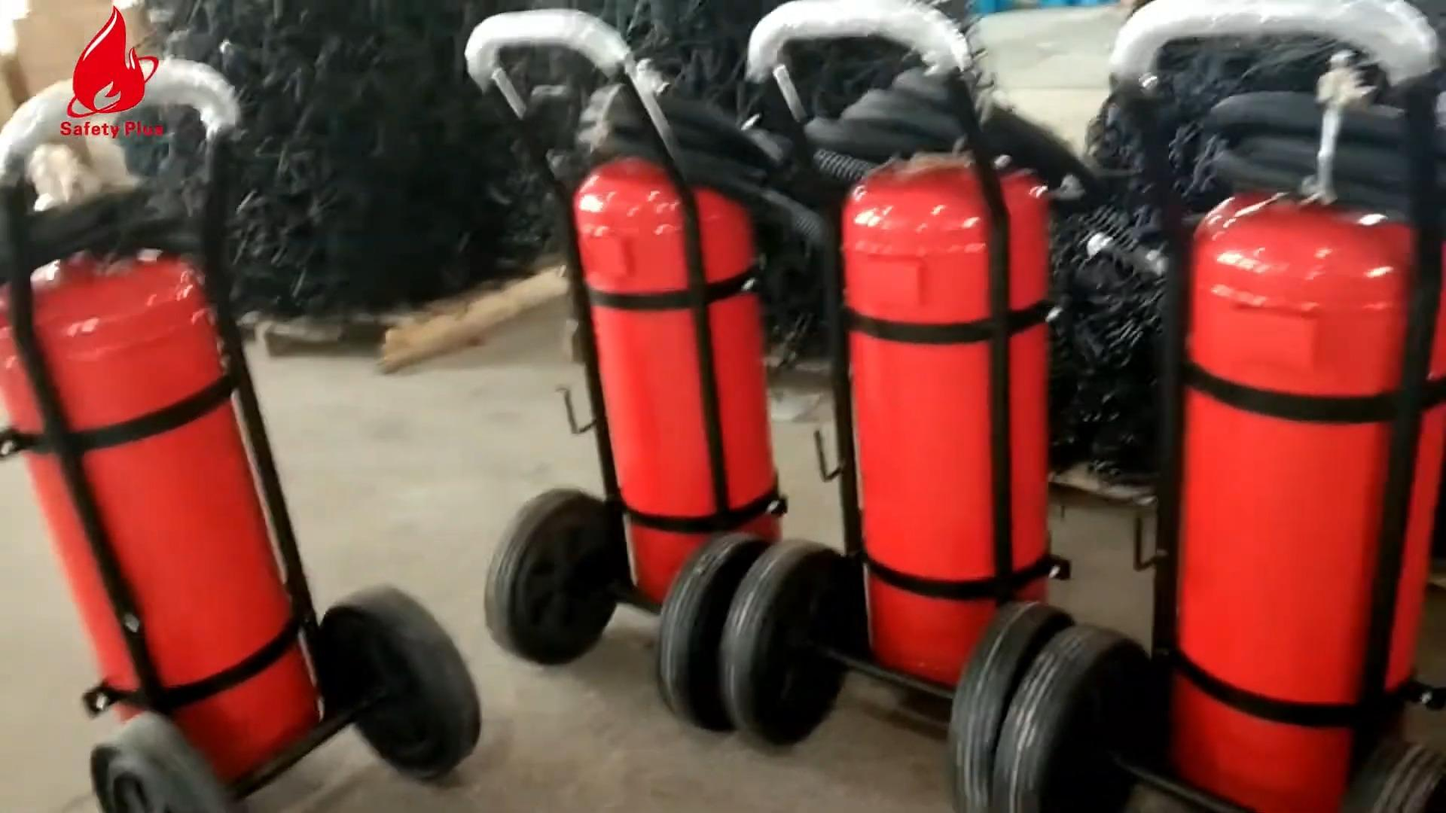FireExtinguisher: (0, 209, 350, 798), (1143, 160, 1446, 813), (818, 128, 1069, 706), (545, 134, 782, 616)
